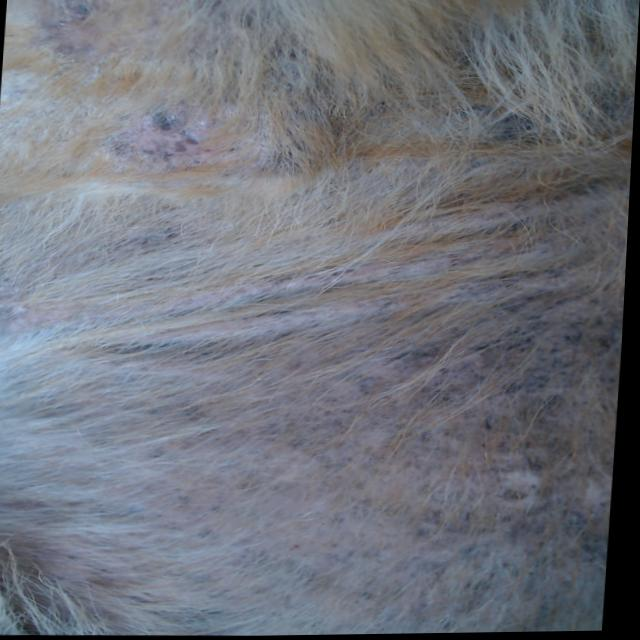demodicosis: (295, 285, 614, 529), (122, 112, 214, 171)
